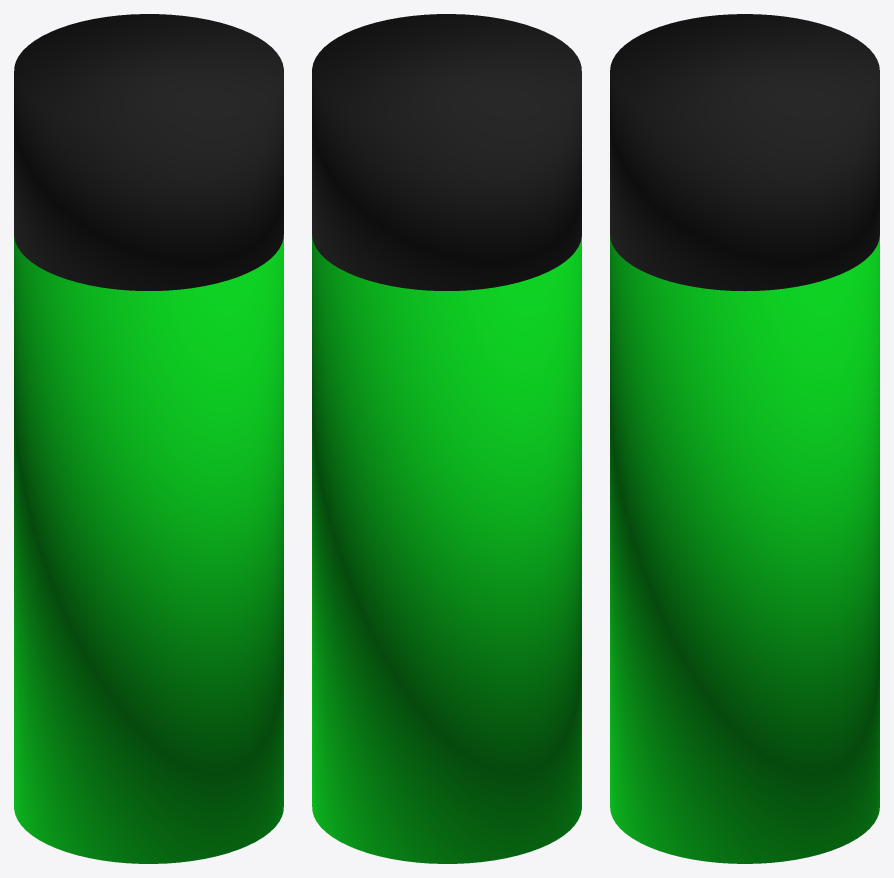
File: tallCan1.fbx
3 renders of one model, left to right at view 1: azimuth 30°, elevation 25°; view 2: azimuth 150°, elevation 25°; view 3: azimuth 270°, elevation 25°, orthographic.
Parts seen in each view (by area): view 1: Cylinder, Cylinder.001; view 2: Cylinder, Cylinder.001; view 3: Cylinder, Cylinder.001.
Boxes of the visible parts, x1=… form: Cylinder: x1=14, y1=234, x2=283, y2=863; Cylinder.001: x1=14, y1=14, x2=283, y2=290; Cylinder: x1=312, y1=234, x2=581, y2=863; Cylinder.001: x1=312, y1=14, x2=581, y2=290; Cylinder: x1=610, y1=235, x2=879, y2=863; Cylinder.001: x1=610, y1=14, x2=879, y2=291.
Size of the model in its own units: 150 by 451 by 150.
